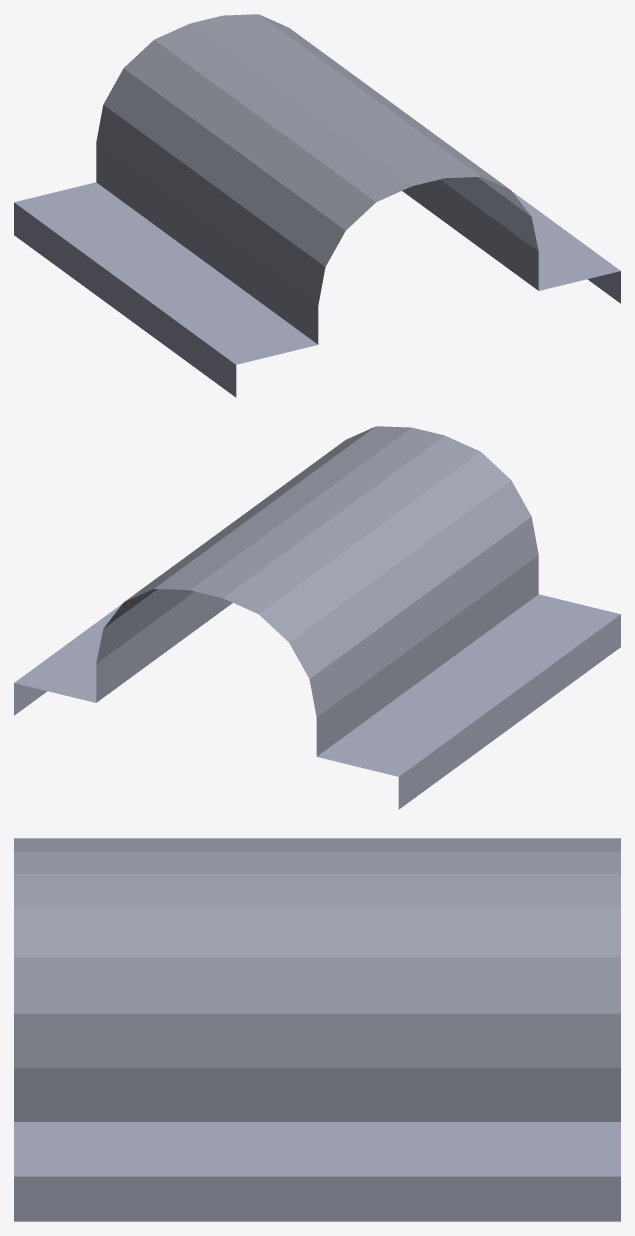
The model's file is frame_platform2.fbx.
The picture shows the model from 3 angles, top to bottom: view 1: azimuth 30°, elevation 25°; view 2: azimuth 150°, elevation 25°; view 3: azimuth 270°, elevation 25°; orthographic projection. The views are drawn at different scales.
Visible parts, largest first — view 1: frame_platform2; view 2: frame_platform2; view 3: frame_platform2.
Part boxes in pixels (<box>): frame_platform2: <box>14,14,620,397</box>; frame_platform2: <box>14,426,620,809</box>; frame_platform2: <box>14,838,620,1221</box>.
Size of the model in its own units: 100 by 41.88 by 100.
